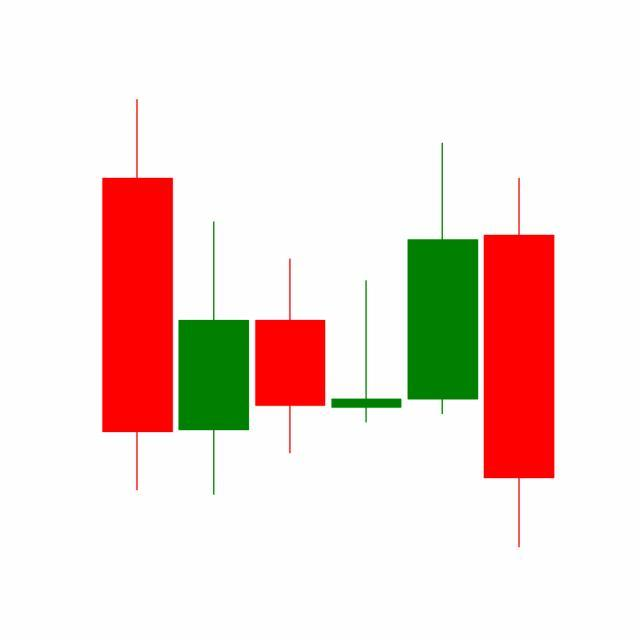Hikkake Pattern: (175, 138, 555, 548)
